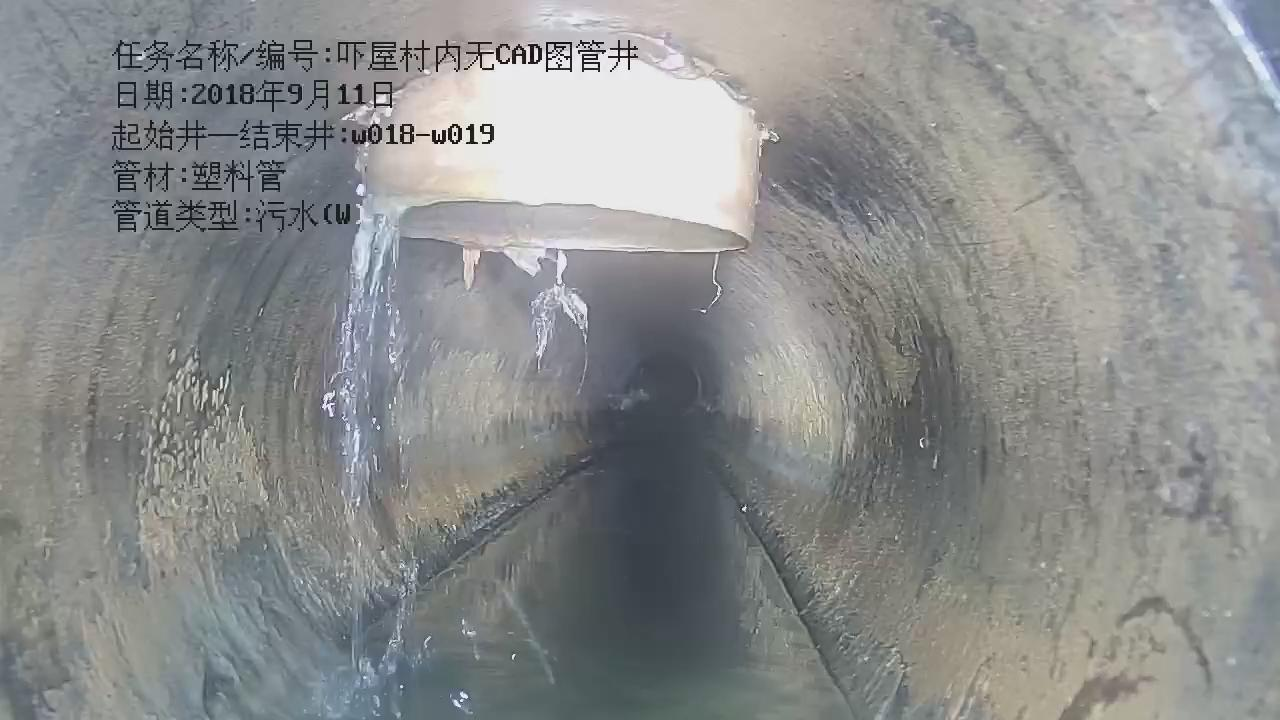ZGAJ: (350, 37, 771, 280)
